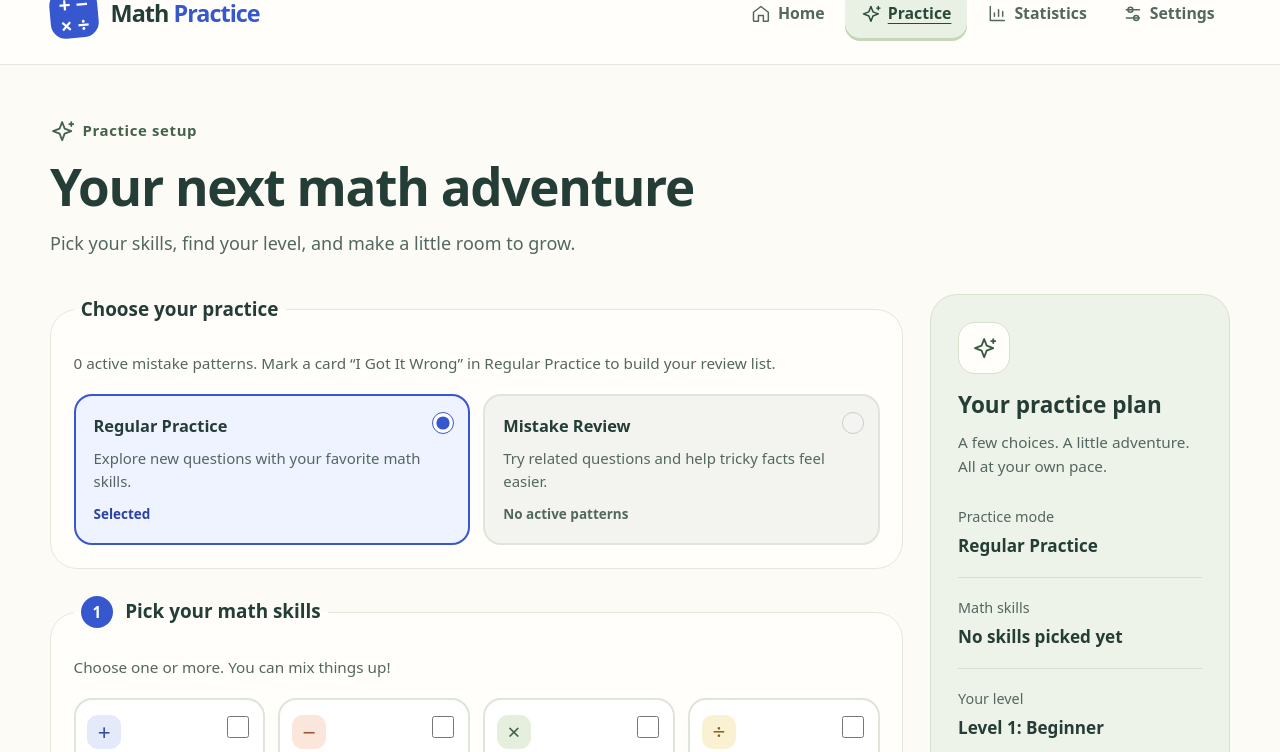
Test: turns animations off without changing the answer
This screenshot has width=1280, height=752.
Click the checkbox labelled "Addition" at (238, 727), box x1=227 y1=716 x2=249 y2=738
(page scrolled)
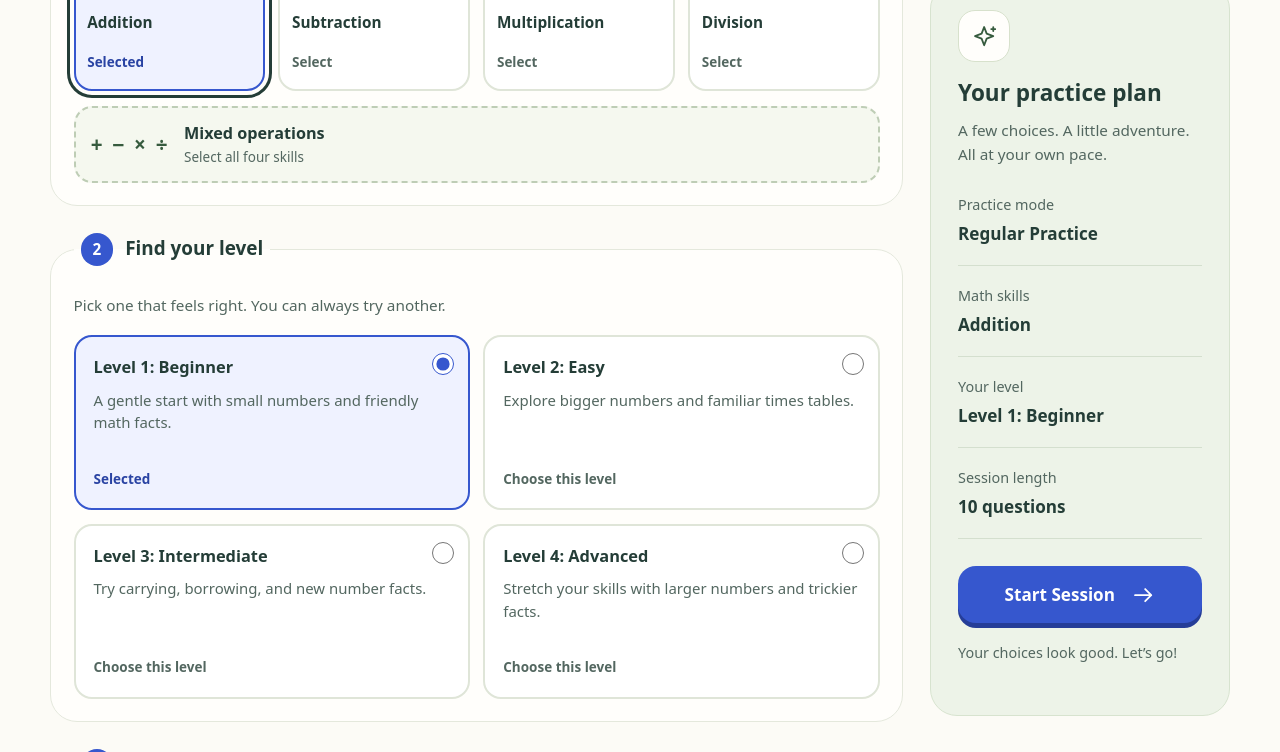
Click the radio button labelled "Level 1: Beginner" at (443, 364), box x1=432 y1=353 x2=454 y2=375
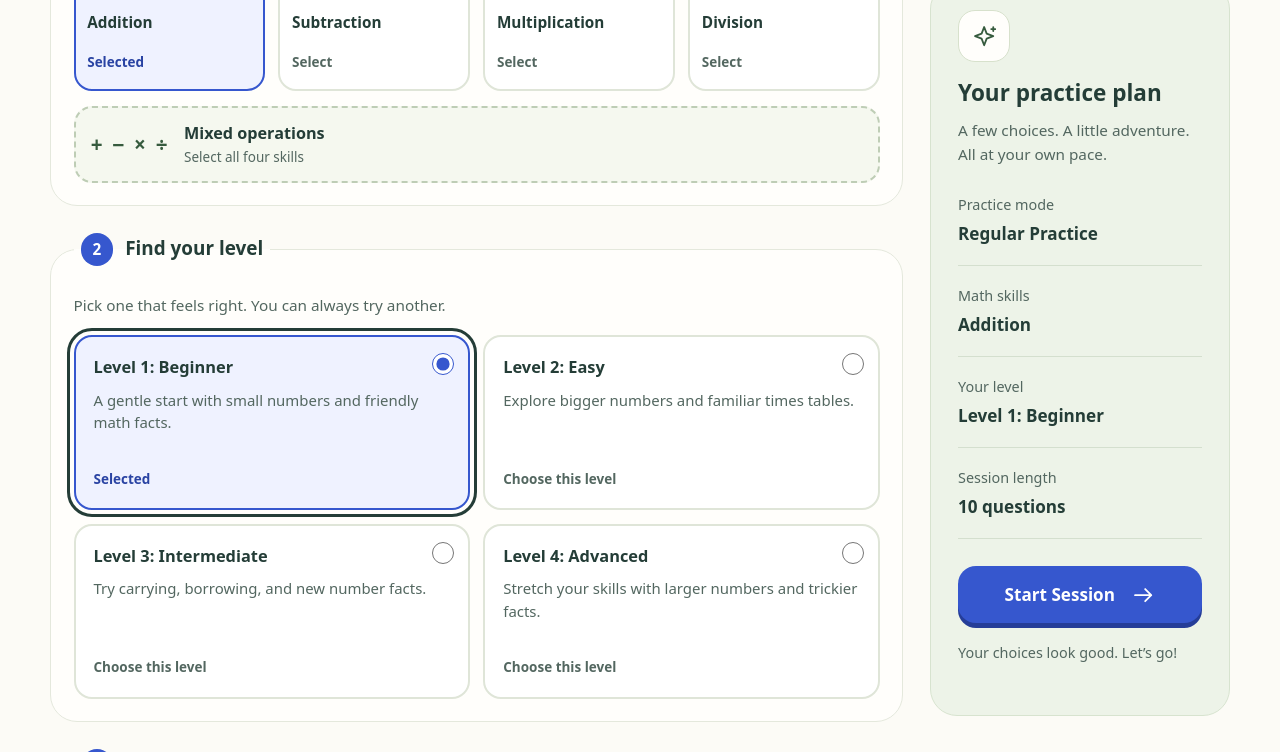
Click the button "Start Session" at (1080, 595), box x1=958 y1=566 x2=1202 y2=624
(page scrolled)
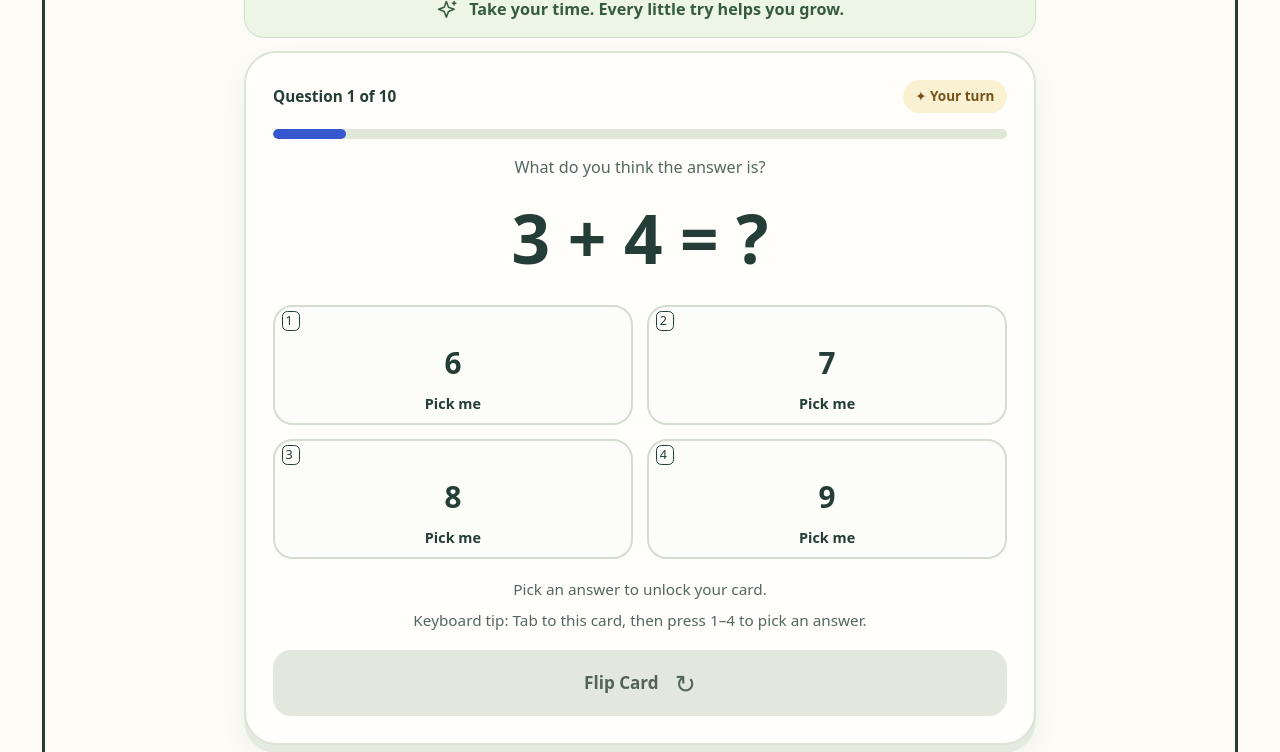
Click the button named "Answer 7" at (827, 365), box x1=647 y1=305 x2=1007 y2=425
(page scrolled)
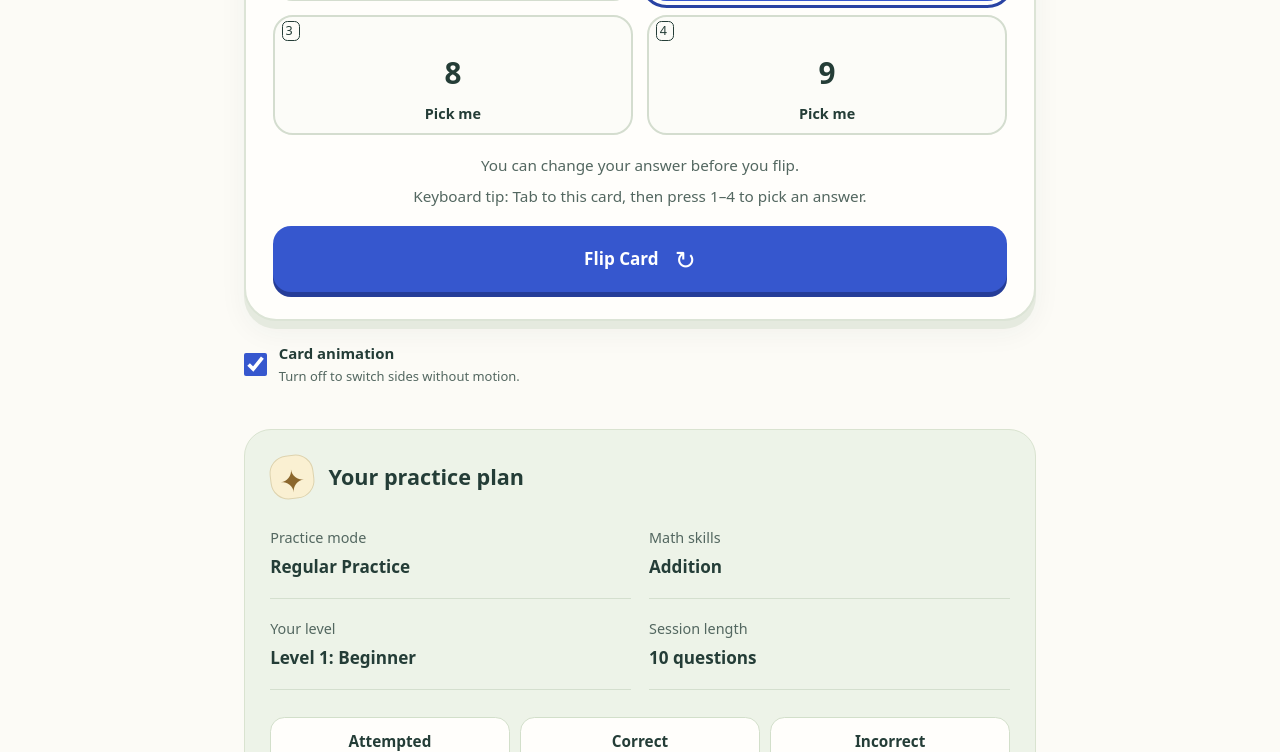
Click the checkbox labelled "Card animation Turn off to switch sides without motion." at (256, 365), box x1=244 y1=353 x2=267 y2=376
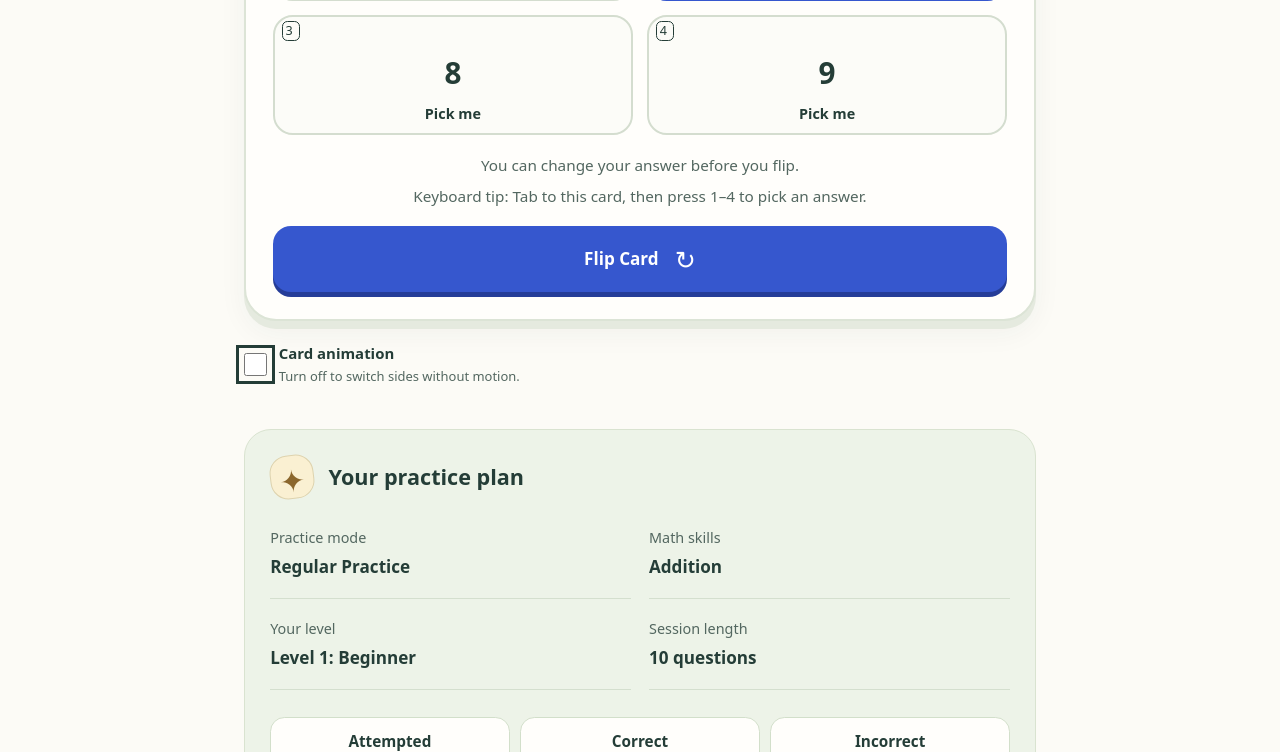
Click the button "Flip Card ↻" at (640, 259), box x1=273 y1=226 x2=1007 y2=292
(page scrolled)
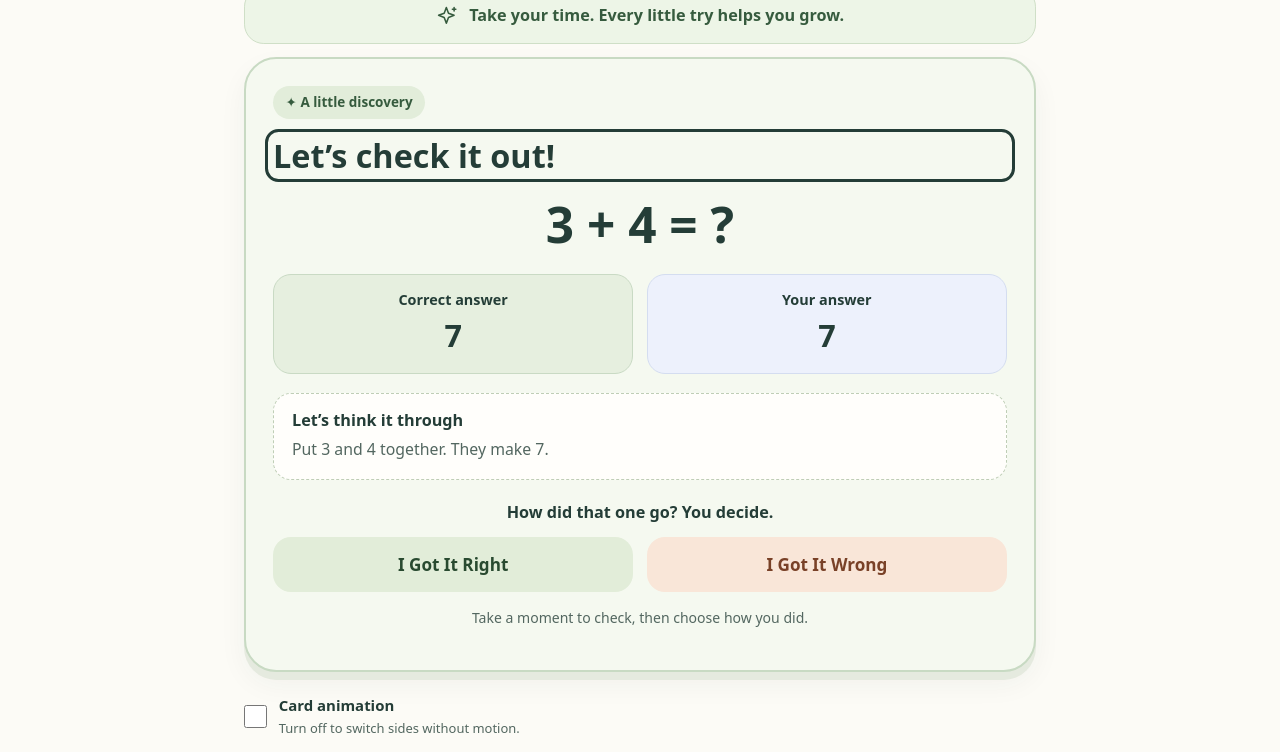
expect the element named "Answer reveal" is shown: met, box x1=244 y1=58 x2=1036 y2=672
